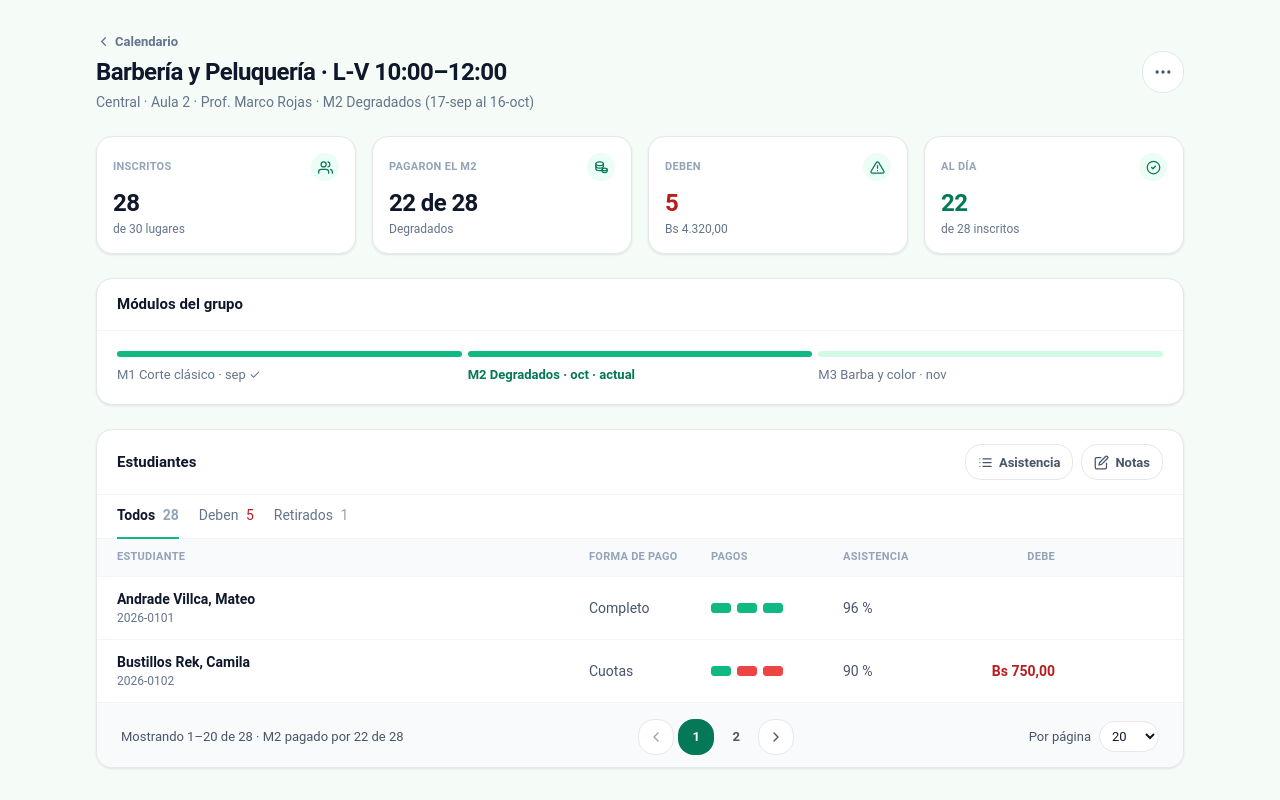
Test case: E3 · detalle de grupo › quien carga notas ve "Cargar notas"
The image size is (1280, 800).
Step 1. Click the button named "Más acciones del grupo" → (1163, 72), box top-left (1142, 51), bottom-right (1184, 93)
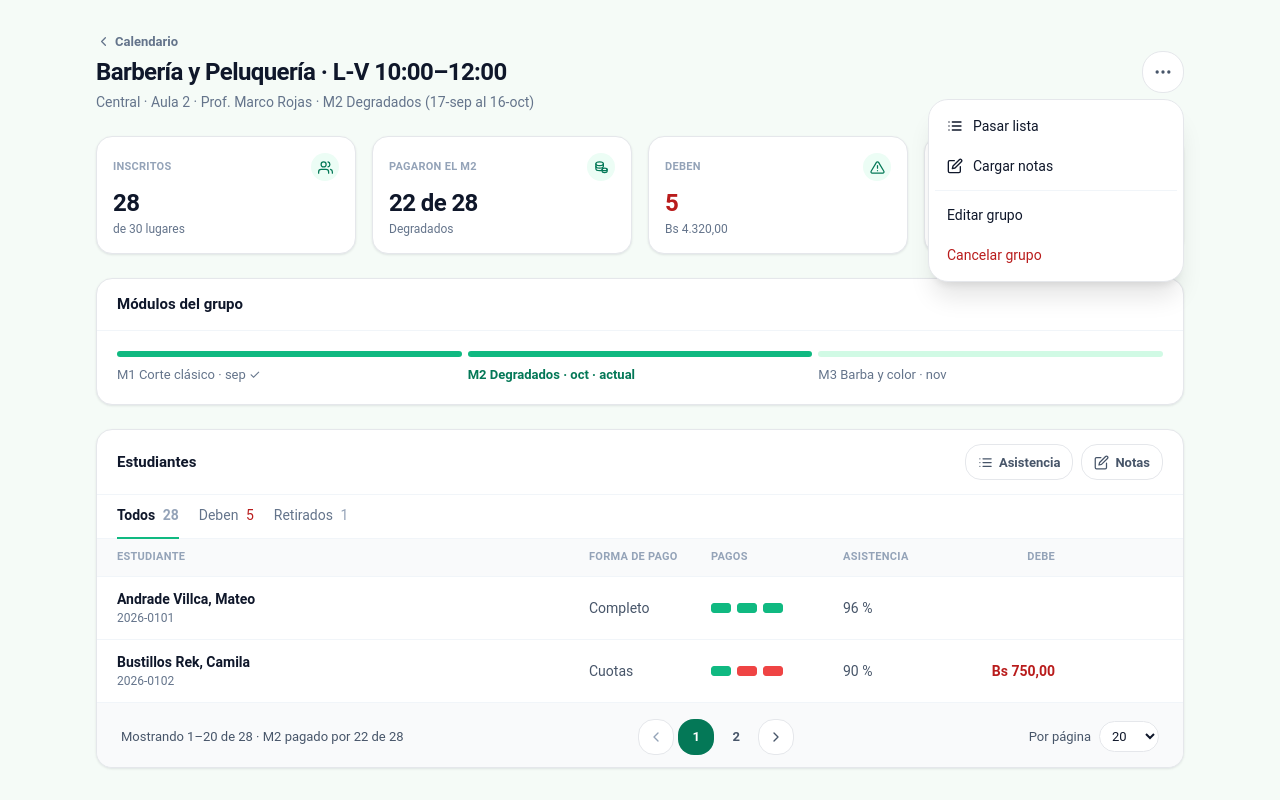
Expected: the menu item "Cargar notas" is shown, top-left (935, 146), bottom-right (1177, 186)
